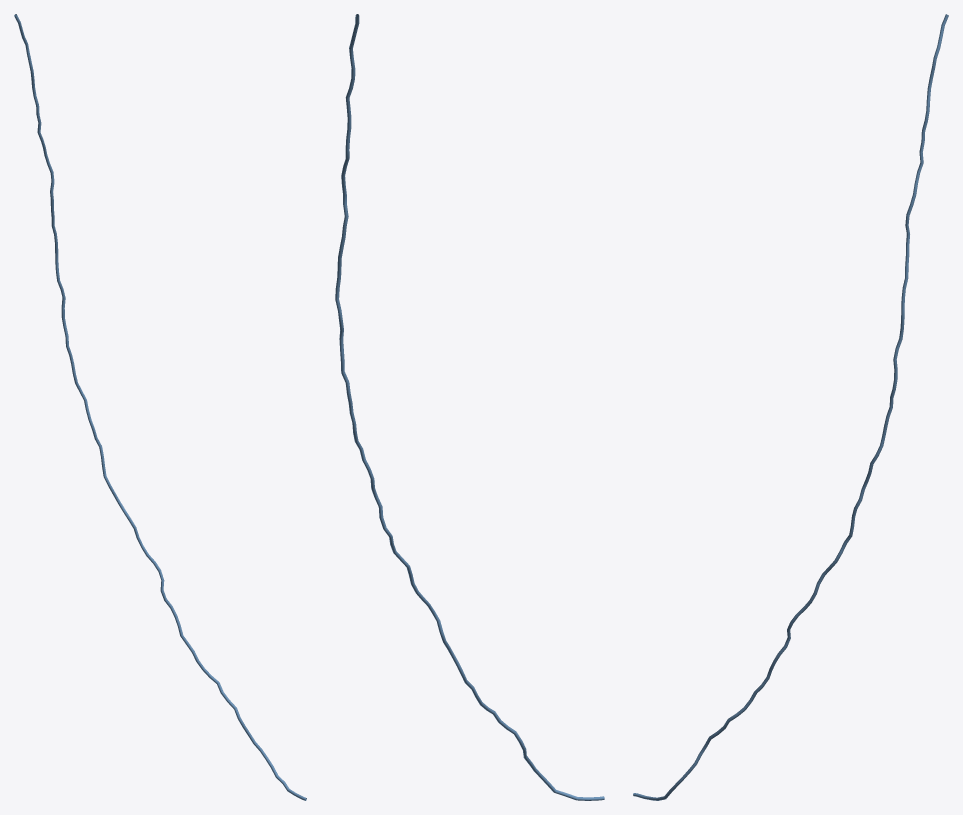
Rendered from sweep324.fbx.
The picture shows the model from 3 angles, left to right: view 1: azimuth 90°, elevation 25°; view 2: azimuth 150°, elevation 25°; view 3: azimuth 270°, elevation 25°; orthographic projection. The views are drawn at different scales.
Visible parts, largest first — view 1: sweep324; view 2: sweep324; view 3: sweep324.
Boxes of the visible parts, box(x1,y1,x2,y2) form: sweep324: box(14, 14, 306, 800); sweep324: box(335, 14, 604, 800); sweep324: box(633, 14, 948, 800).
Size of the model in its own units: 0.7305 by 5.09 by 1.79.
